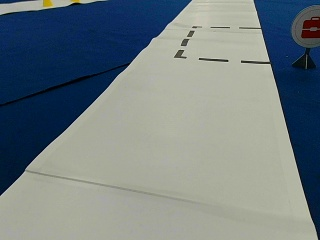company: (291, 5, 319, 46)
